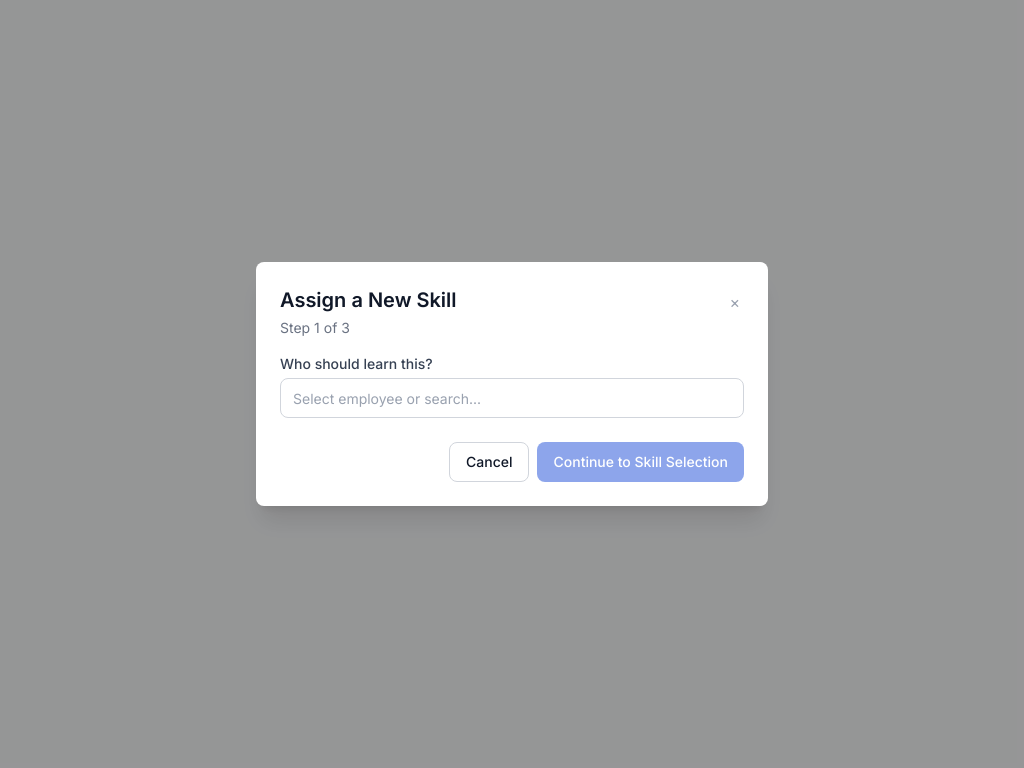
Test: AssignmentModal › shows the read-only Assignment Summary on Step 3
Click the dropdown named "Select employee or search": (512, 398) [280, 378, 744, 418]
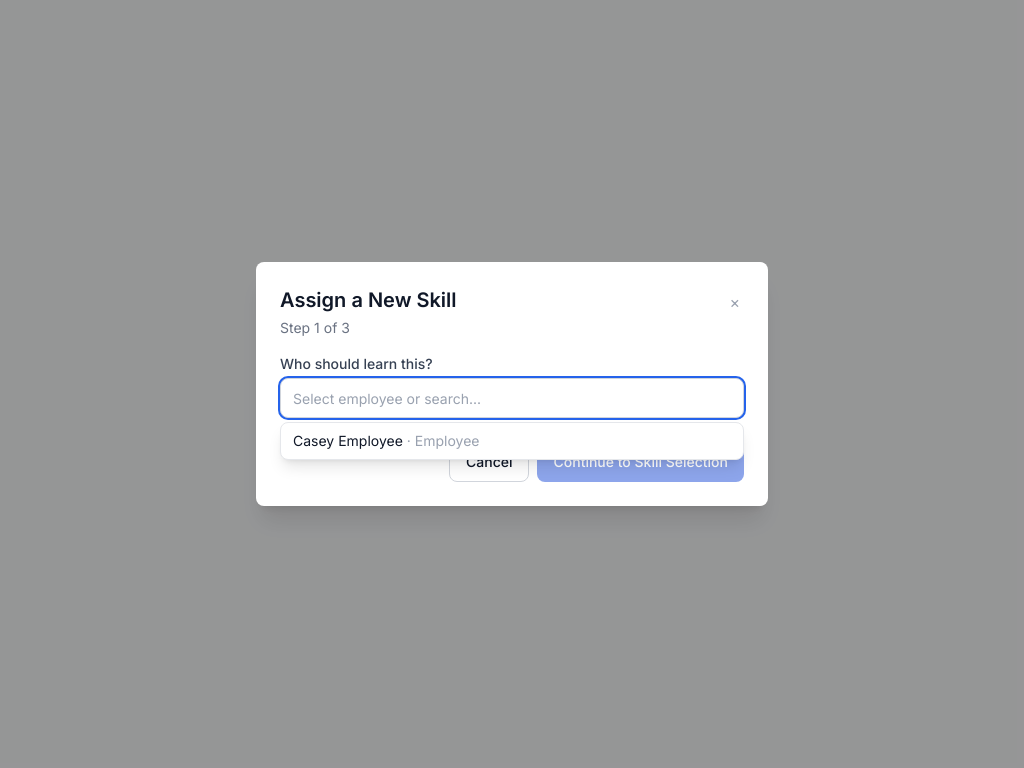
Click the option "Casey Employee· Employee": (386, 440) [293, 432, 480, 449]
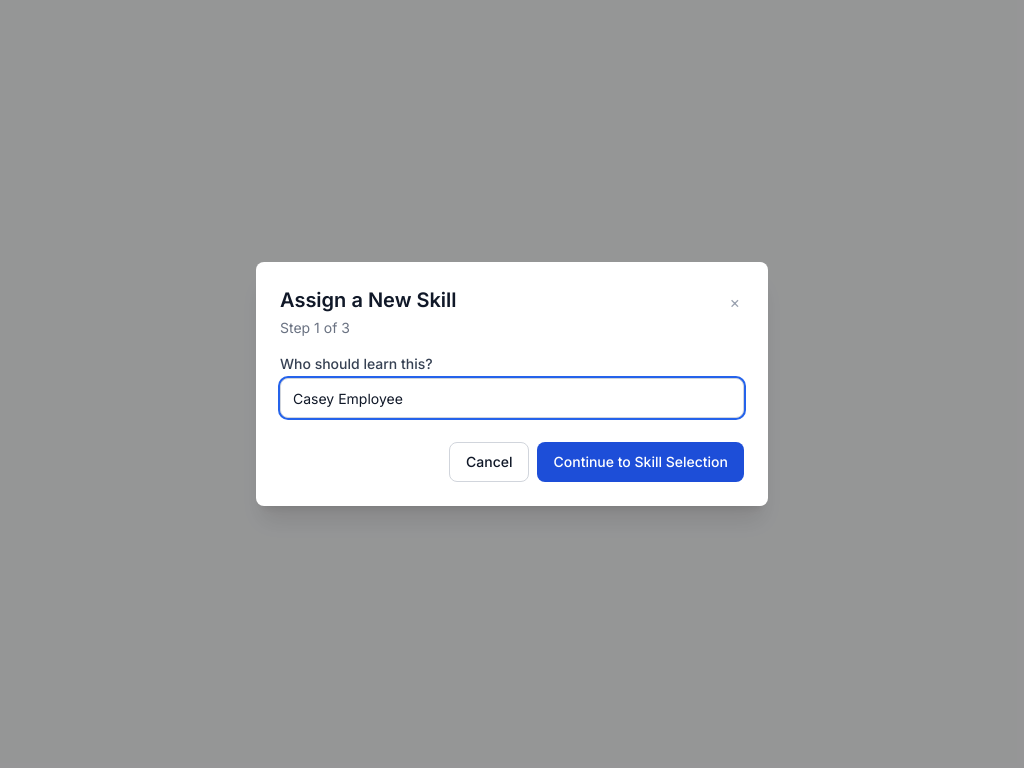
Click the button "Continue to Skill Selection": (641, 462) [538, 442, 744, 482]
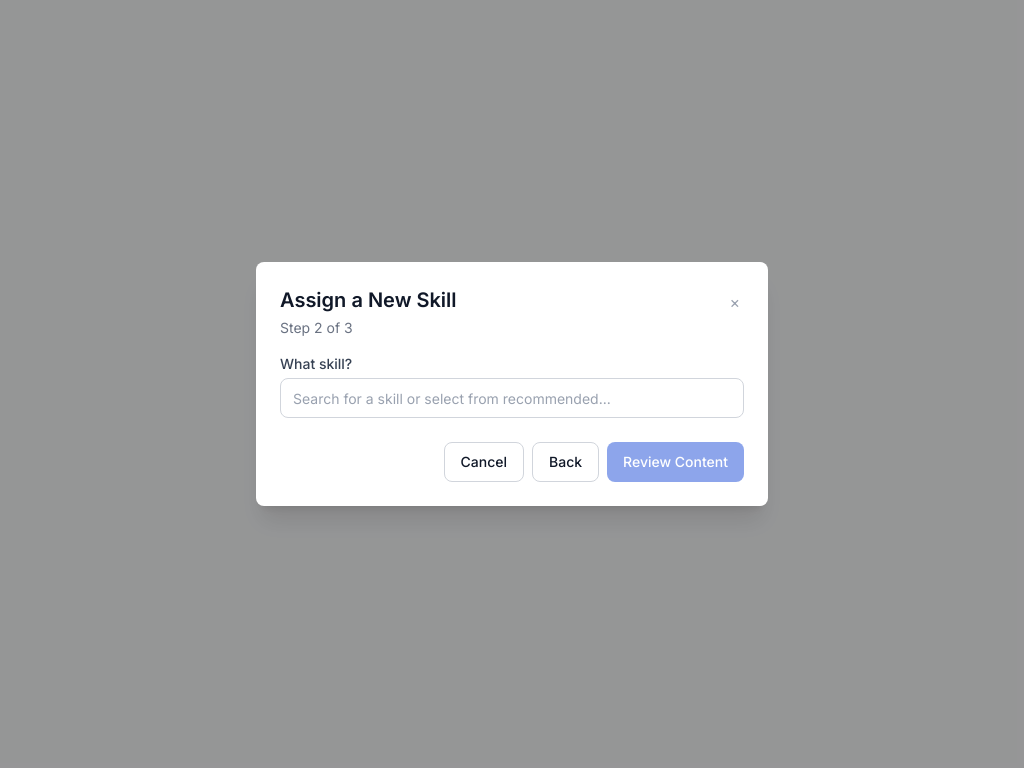
Click the dropdown named "Search for a skill": (512, 398) [280, 378, 744, 418]
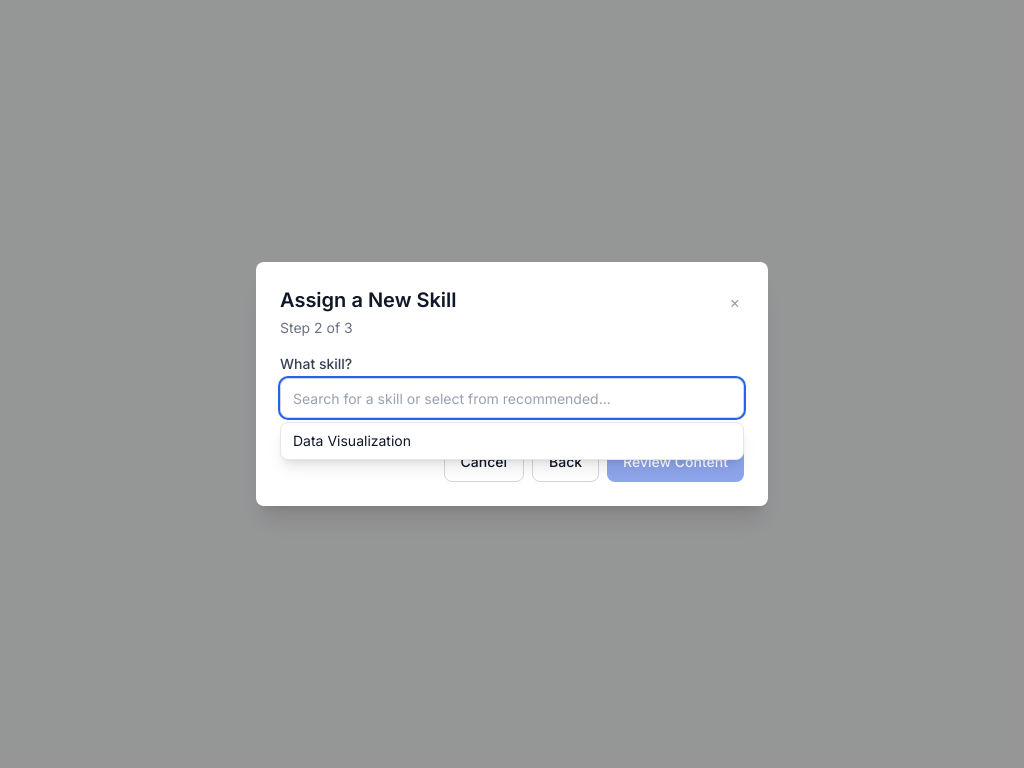
Click the option "Data Visualization": (352, 440) [293, 432, 411, 449]
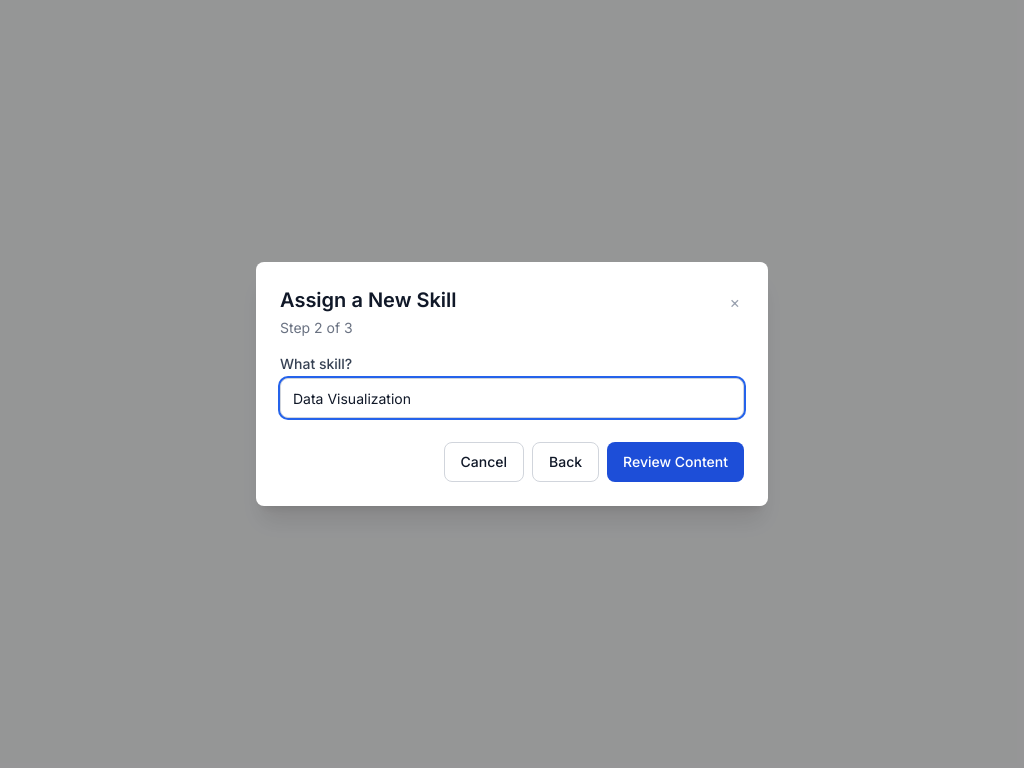
Click the button "Review Content": (676, 462) [607, 442, 744, 482]
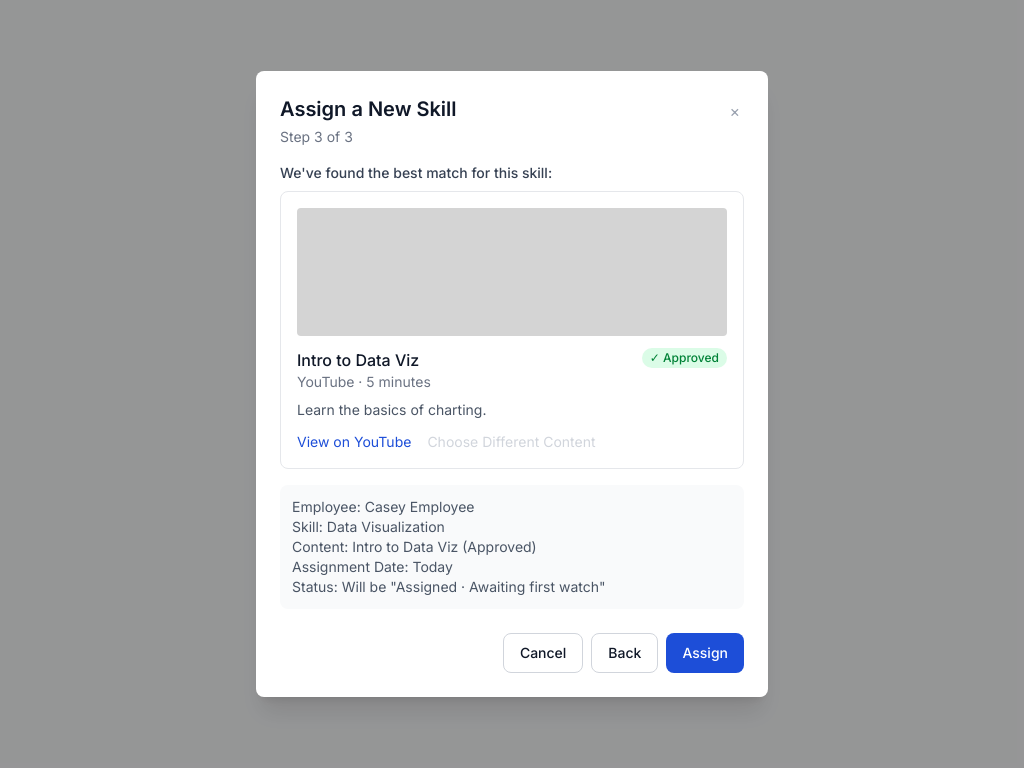
Now the text "Assignment Date: Today" is shown, box [292, 558, 453, 575]
Now the text "Status: Will be \"Assigned · Awaiting first watch\"" is shown, box [292, 578, 606, 595]
